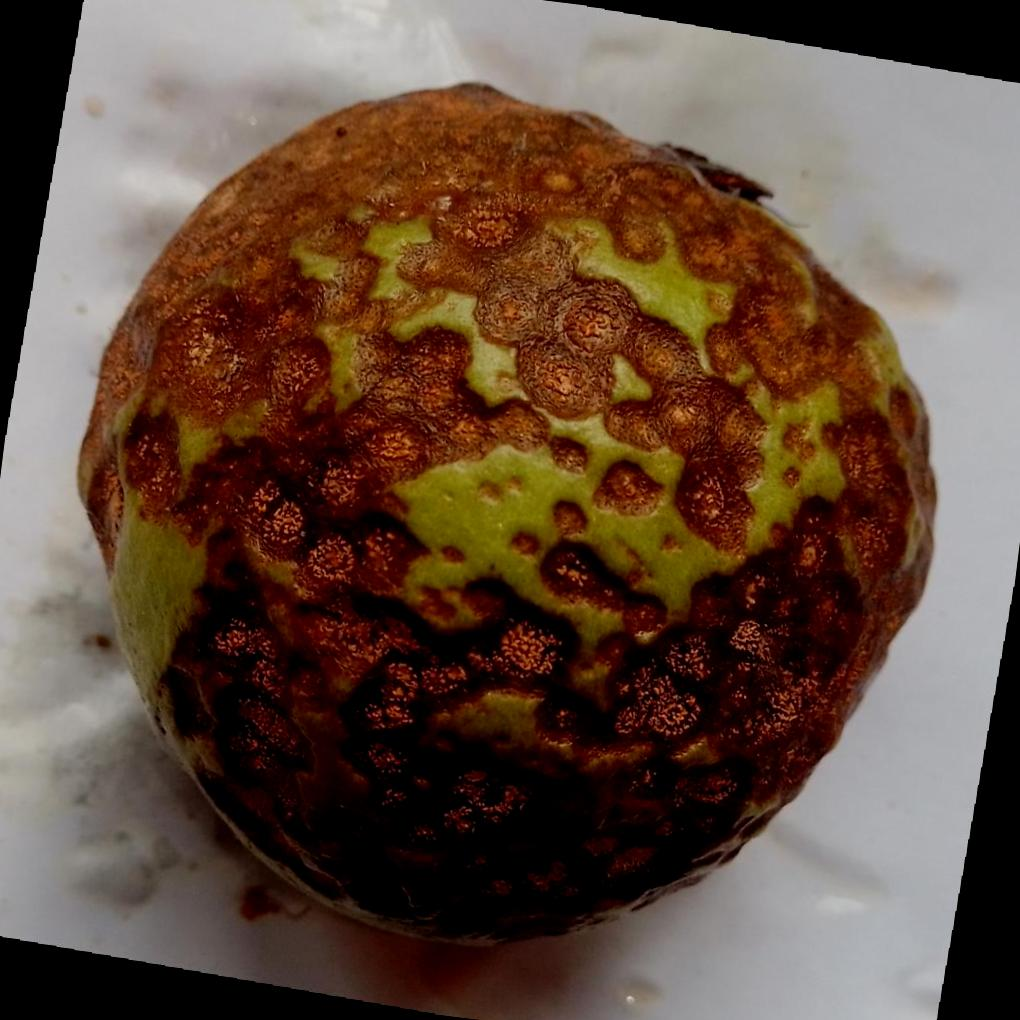FreshOrange: (74, 84, 939, 950)
